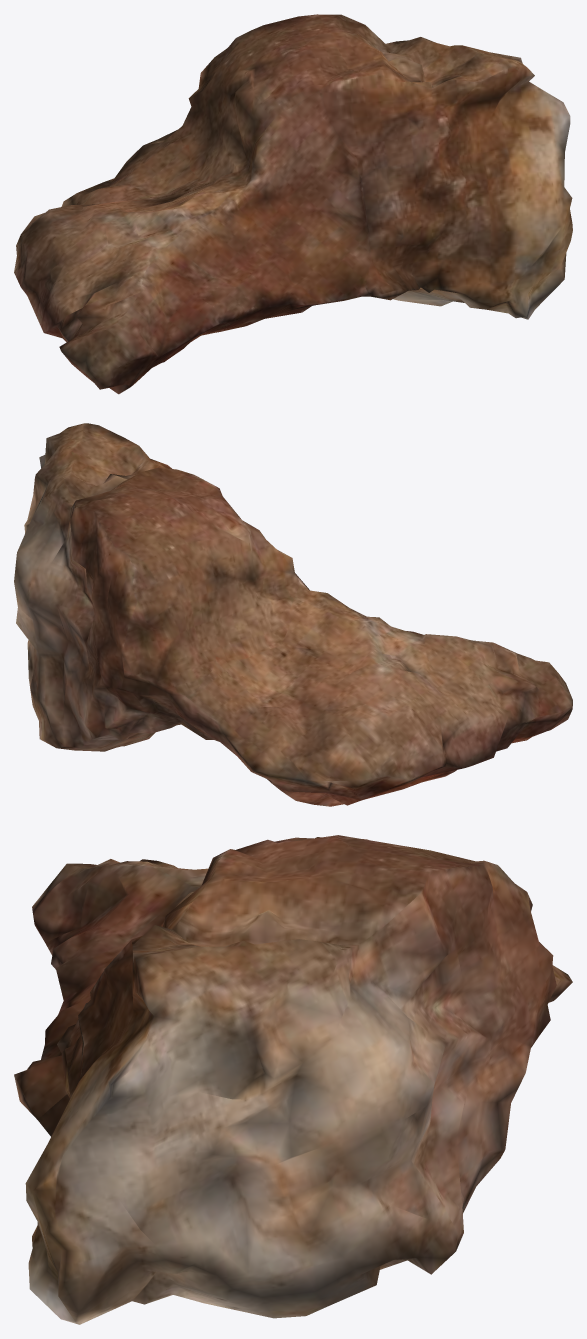
File: stone_01.glb
The picture shows the model from 3 angles, top to bottom: view 1: azimuth 30°, elevation 25°; view 2: azimuth 150°, elevation 25°; view 3: azimuth 270°, elevation 25°; orthographic projection. The views are drawn at different scales.
Parts seen in each view (by area): view 1: stone_01; view 2: stone_01; view 3: stone_01.
Boxes of the visible parts, x1,y1,x2,y2 form: stone_01: (14,14,572,394); stone_01: (14,423,572,806); stone_01: (14,835,572,1324).
Size of the model in its own units: 0.1462 by 0.071 by 0.089.
1 material, 1 textured.
